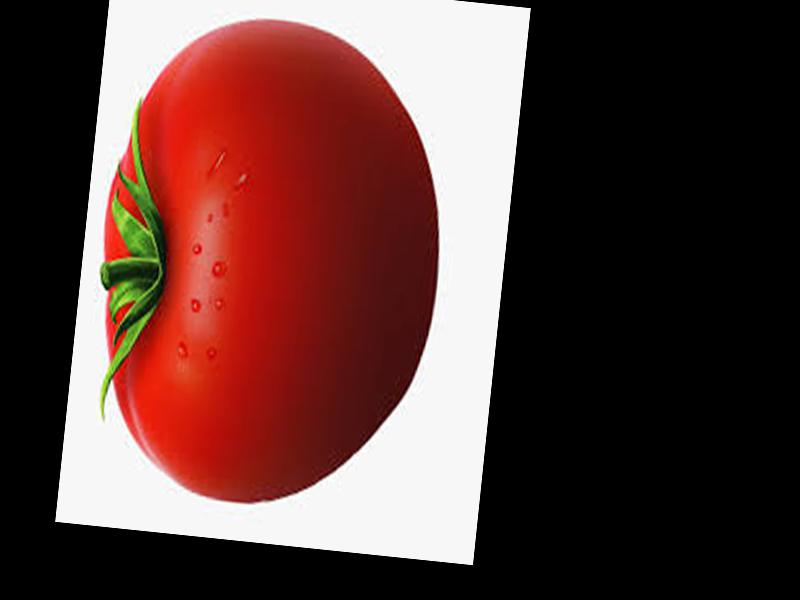Tomato: (77, 62, 457, 520)
